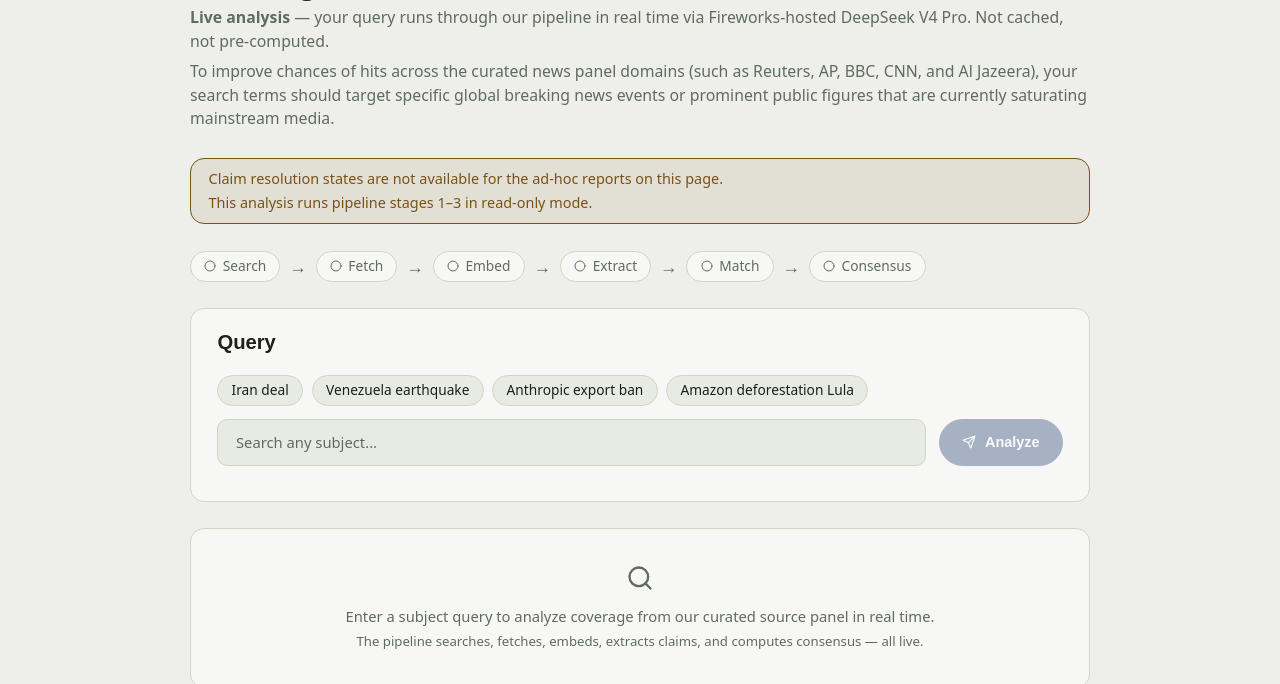
Test case: Investigate Page › slider renders with threshold label and caption
Type "test" into the field with placeholder "Search any subject..." at (572, 442), box [217,419,926,466]
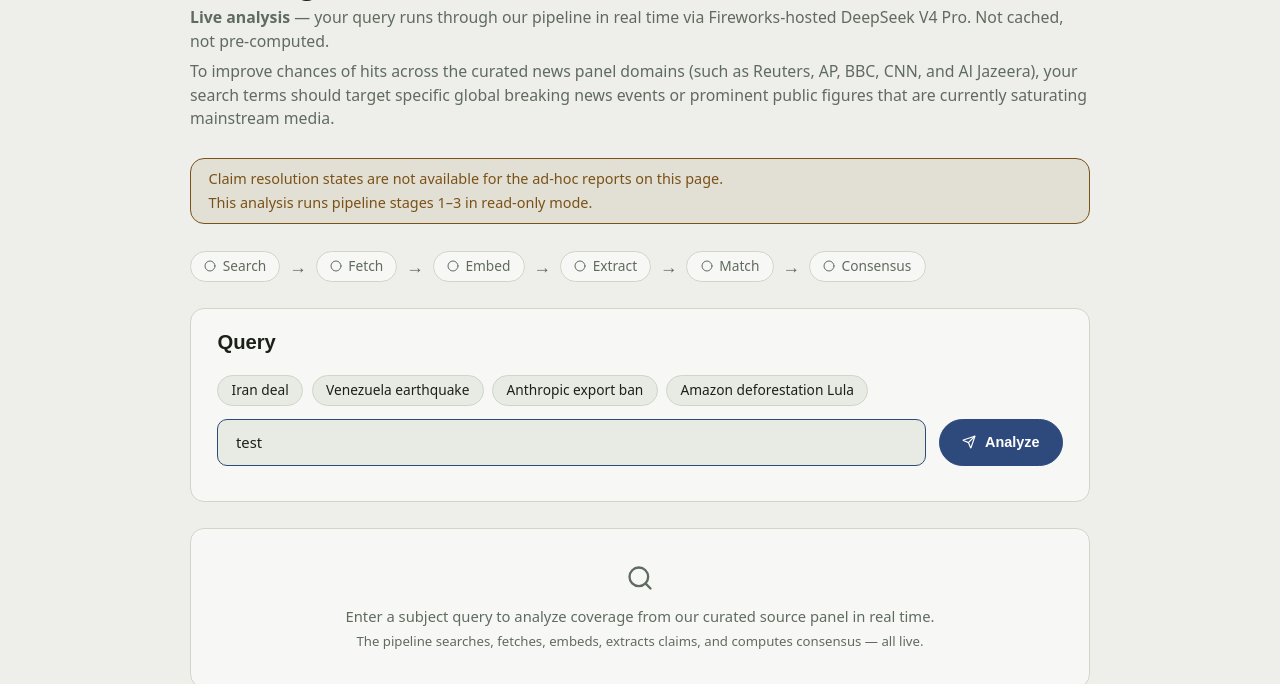
Click the button "Analyze" at (1001, 442), box [939,419,1063,466]
(page scrolled)
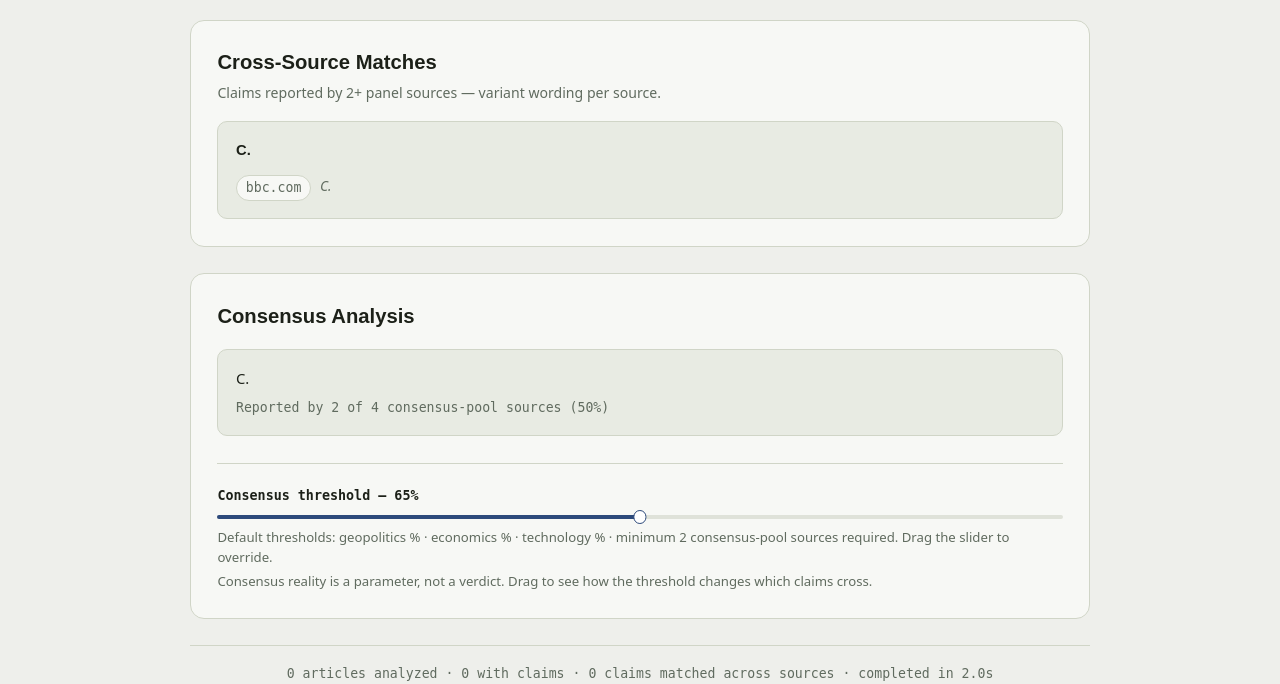
expect the text "Consensus threshold — 65%" is shown: met, box [217,486,418,506]
expect the slider is shown: met, box [633,510,647,524]
expect the text "Consensus reality is a parameter" is shown: met, box [217,572,872,590]
